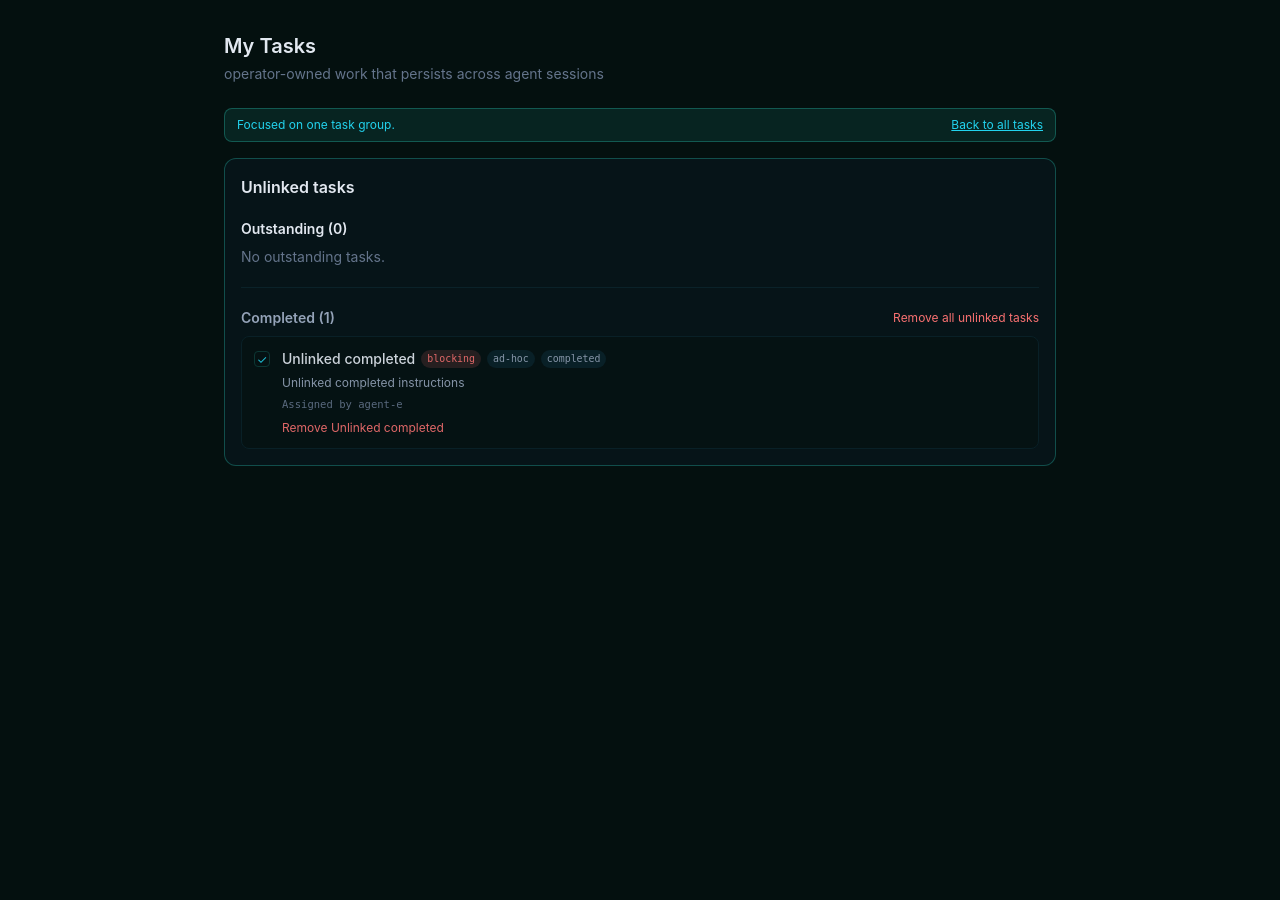
MyTasks › removes the last Unlinked group while retaining its actionable empty focus
Click the button "Remove all unlinked tasks" at (966, 318), box 893,310 -> 1039,326
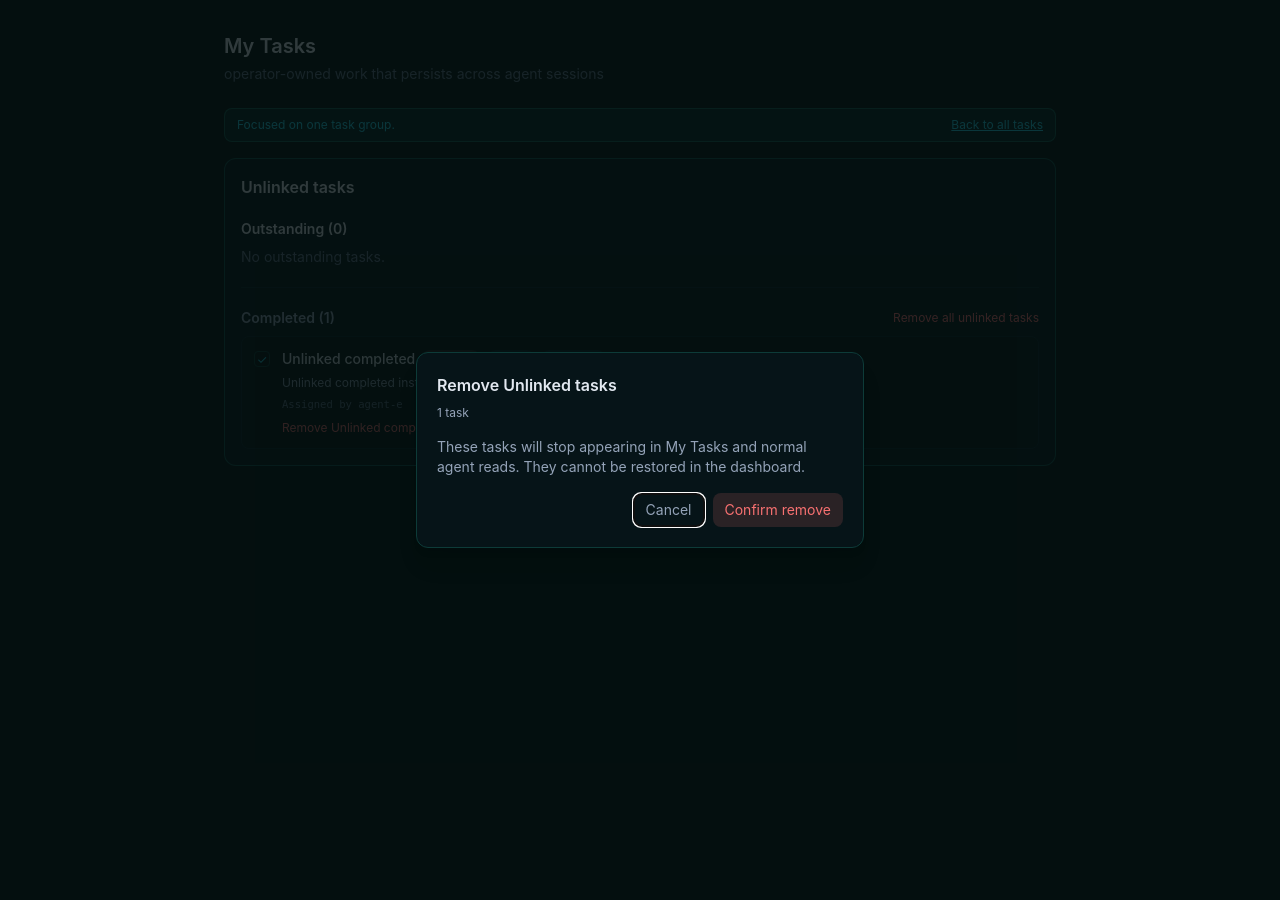
Click the button "Confirm remove" at (778, 510), box 712,493 -> 843,527
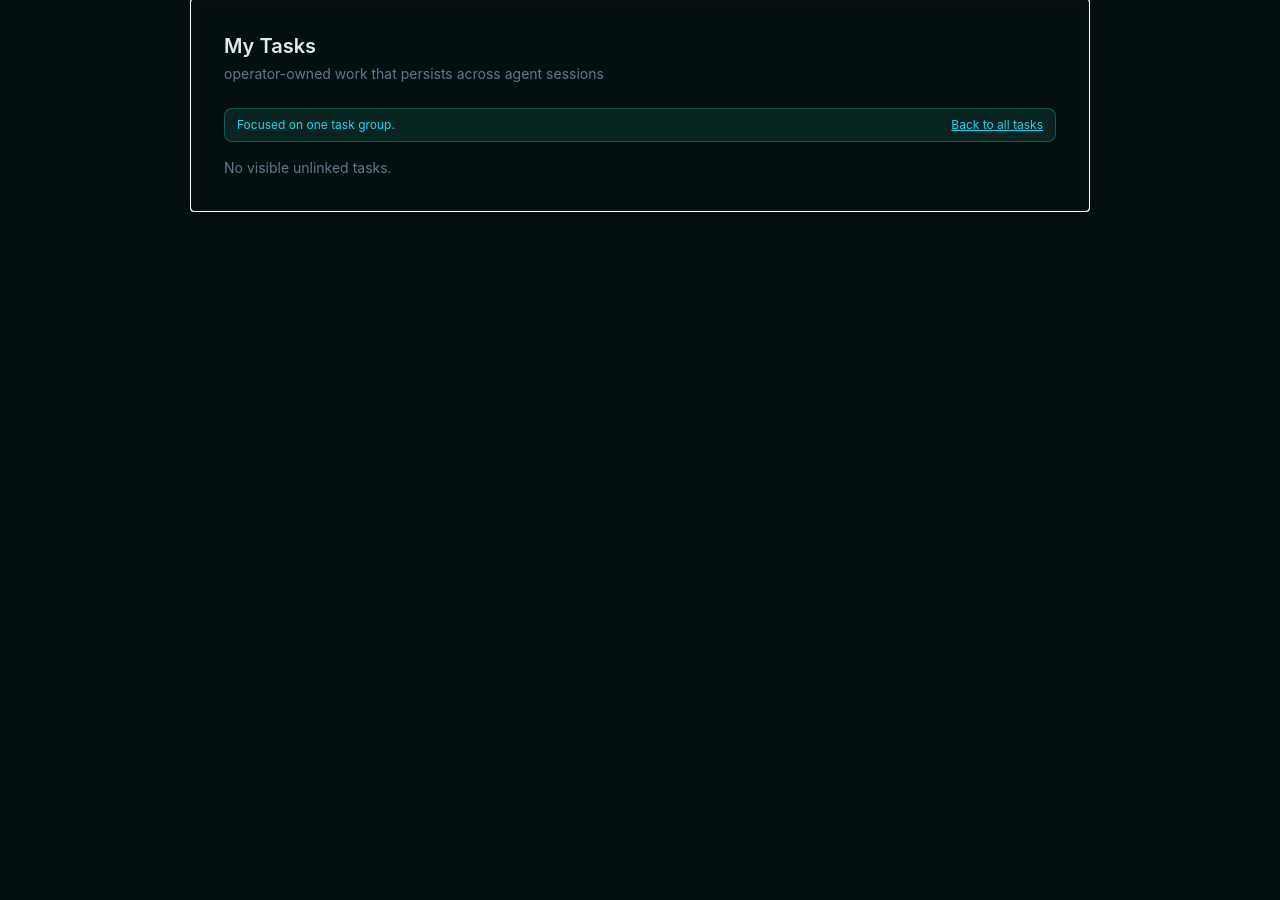
Expected: the button "Back to all tasks" is shown, 951,117 -> 1043,133
Now the text "No visible unlinked tasks." is shown, box 224,159 -> 392,176
